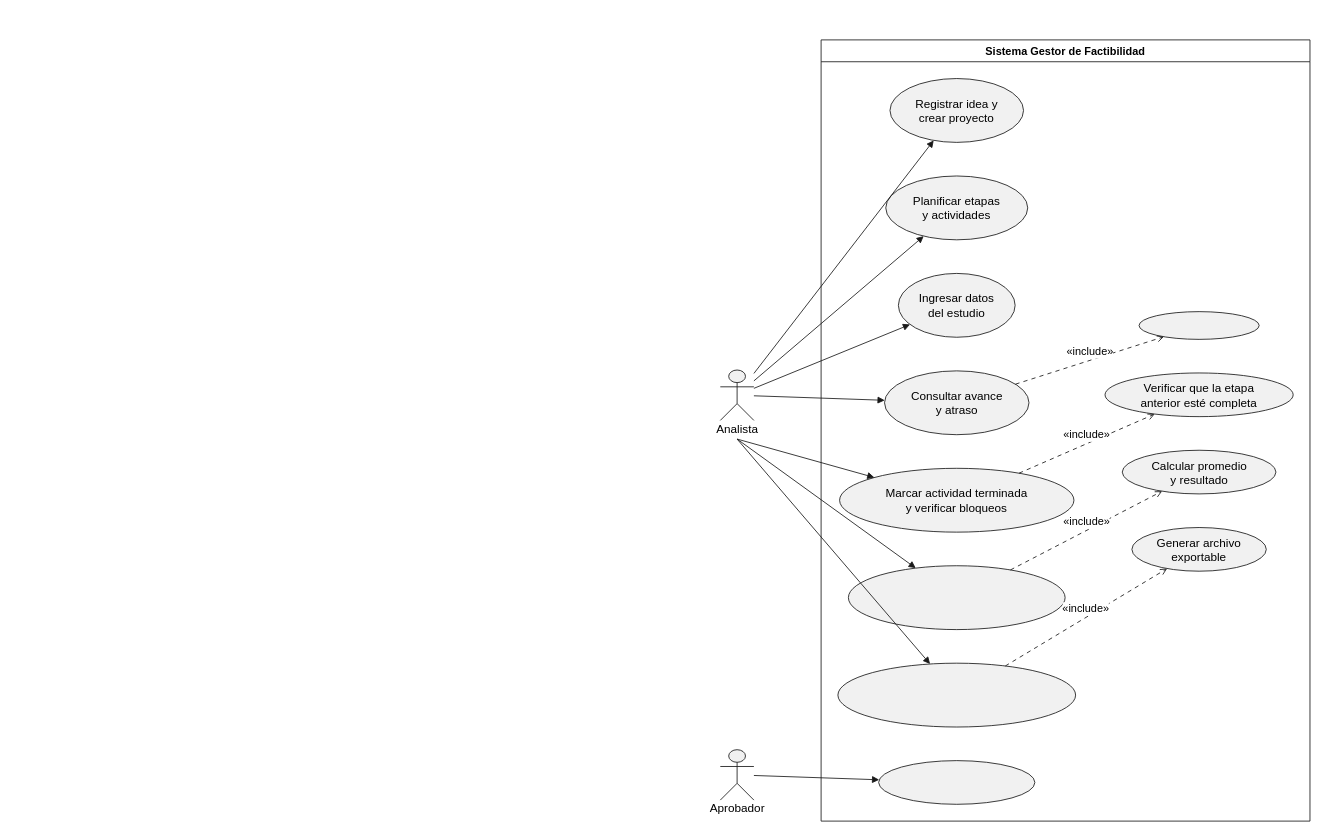
Some shapes in this 1325 by 836 pixel diagram are drawn without their labels. Here are the shapes that lost their labels. From the top down, the box of each, then its label:
(1138, 311, 1259, 339): Detectar atrasos
(848, 565, 1065, 630): Evaluar criterios y obtener la recomendación
(837, 662, 1076, 727): Cerrar proyecto, exportar resumen y consultar historial
(878, 760, 1035, 804): Revisar entregable
